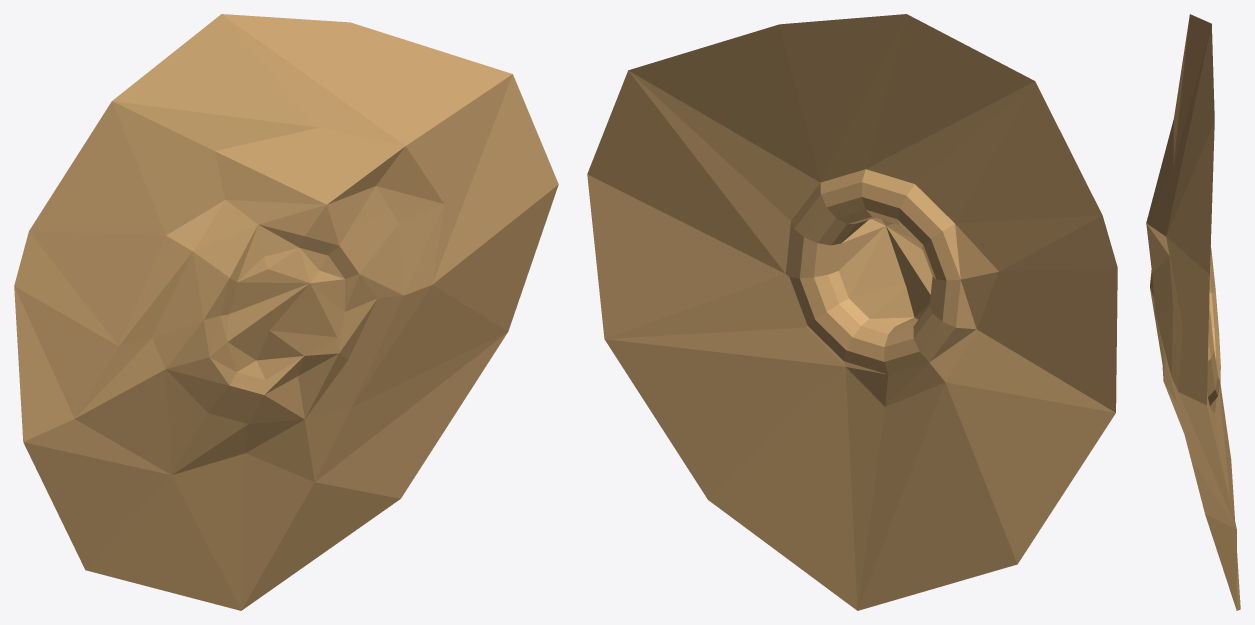
File: island.glb
3 renders of one model, left to right at view 1: azimuth 30°, elevation 25°; view 2: azimuth 150°, elevation 25°; view 3: azimuth 270°, elevation 25°, orthographic. The views are drawn at different scales.
Visible parts, largest first — view 1: node_MeshObject-589935552-PolyPaper18; view 2: node_MeshObject-589935552-PolyPaper18; view 3: node_MeshObject-589935552-PolyPaper18.
Part boxes in pixels (box(x1,y1,x2,y2)): node_MeshObject-589935552-PolyPaper18: box(14, 14, 558, 610); node_MeshObject-589935552-PolyPaper18: box(587, 14, 1117, 610); node_MeshObject-589935552-PolyPaper18: box(1146, 14, 1240, 610).
Size of the model in its own units: 0.9842 by 1.06 by 0.1593.
